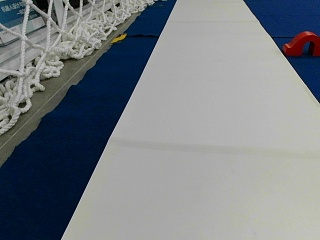bridge: (284, 31, 319, 55)
